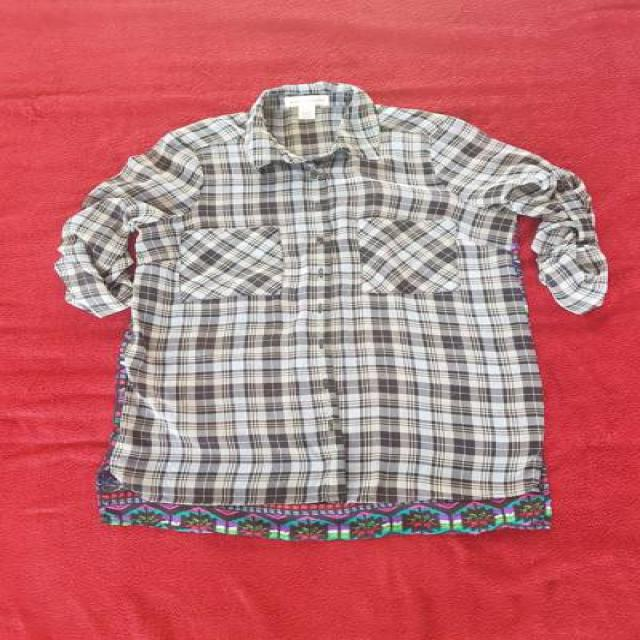Clothes -Biodegradable-: (56, 84, 613, 537)
